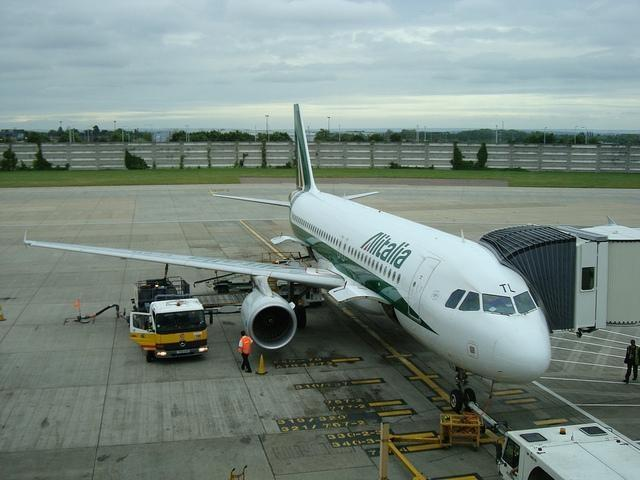truck: (494, 422, 639, 474), (127, 290, 212, 364)
